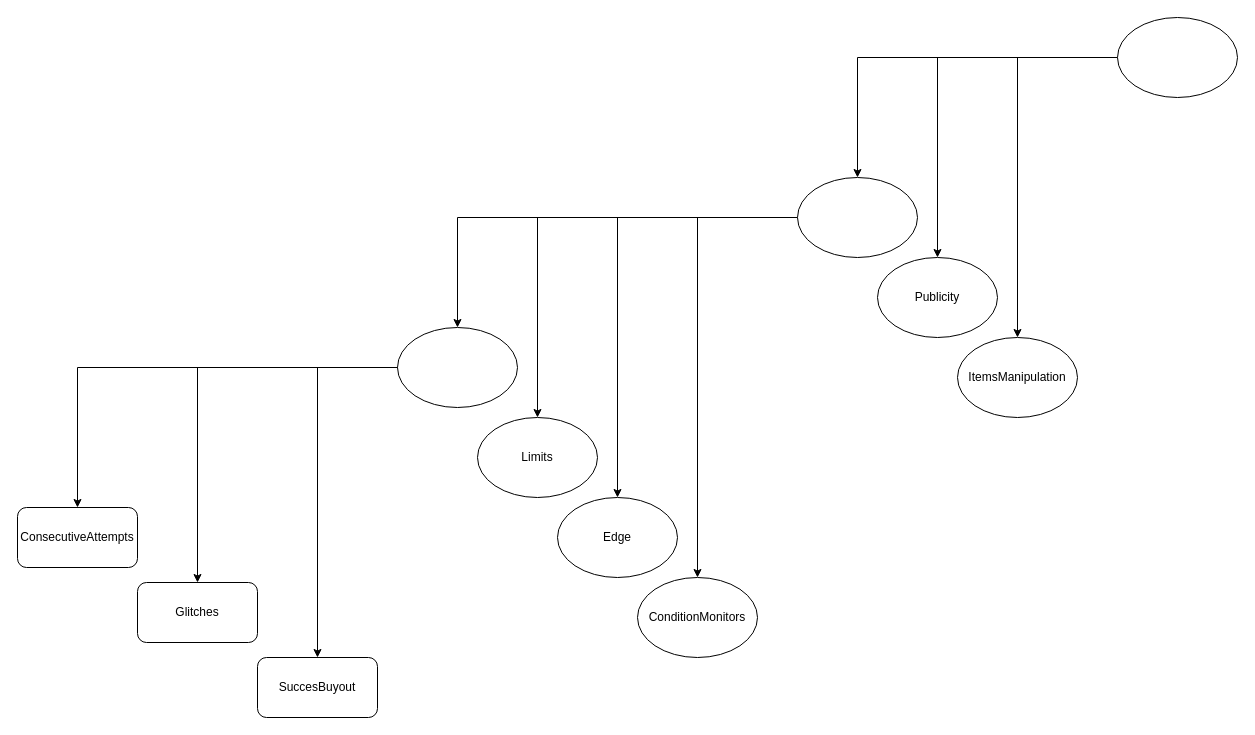
This 1255x735 diagram has some shape labels left out. Each missing label, with the box of its shape:
BasicRules: (1116, 16, 1238, 98)
CoreMechanics: (796, 176, 918, 258)
Tests: (396, 326, 518, 408)
